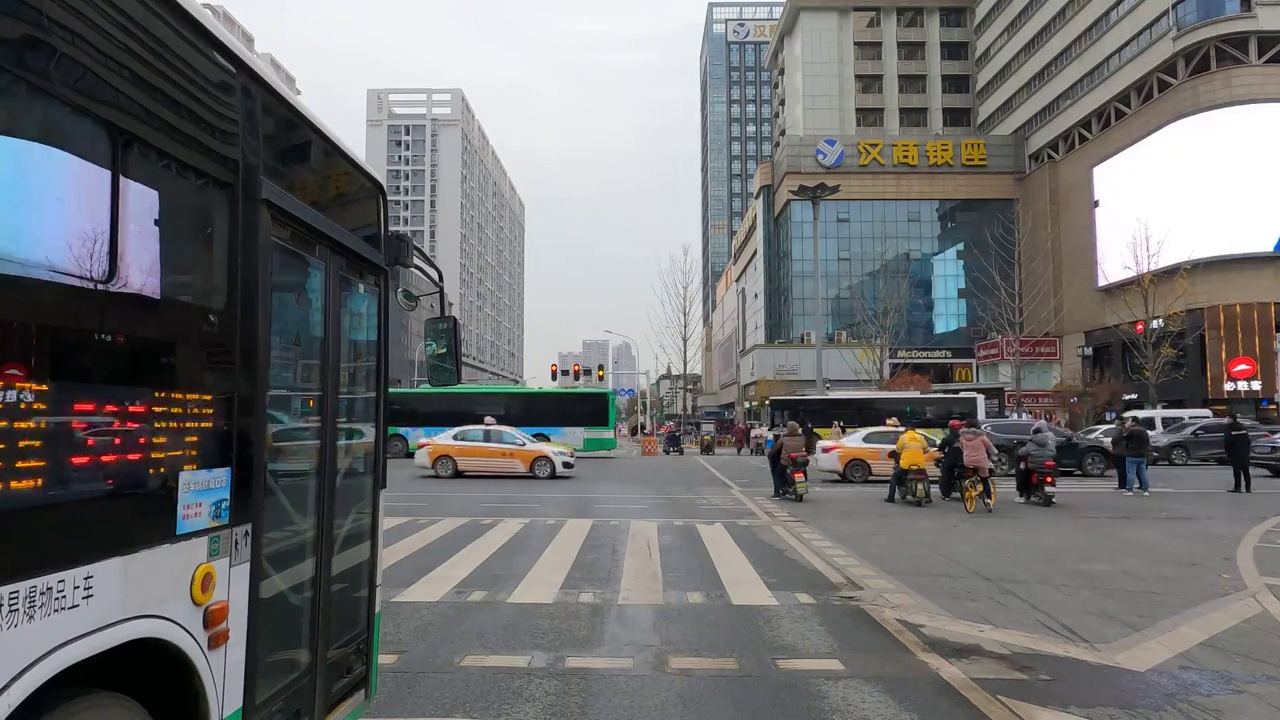lane: (741, 497, 1064, 720), (1077, 487, 1280, 678)
